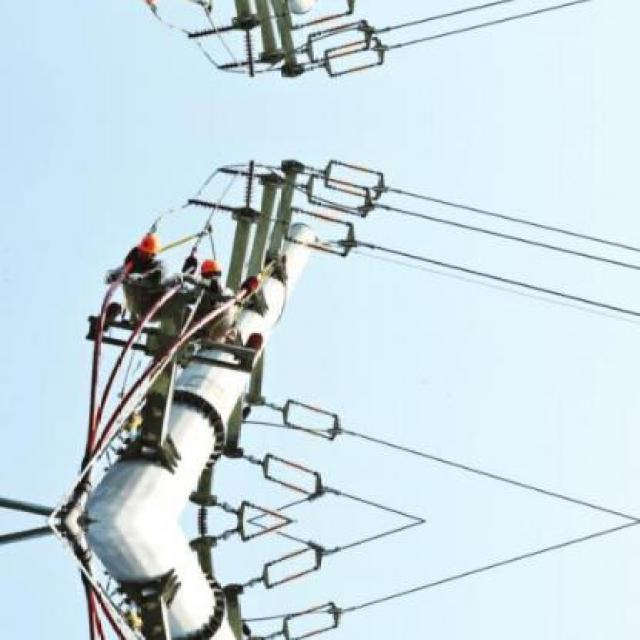hat: (137, 234, 160, 256), (202, 256, 222, 279)
